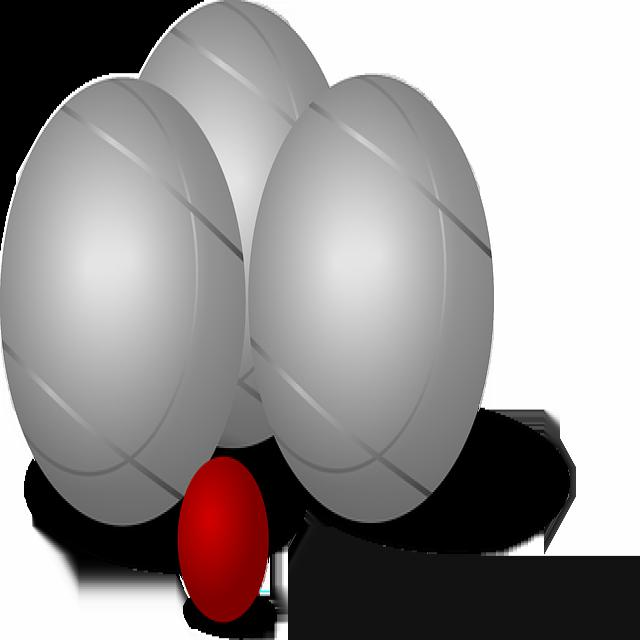hatball: (175, 451, 278, 625)
petanque: (246, 65, 502, 537), (0, 69, 253, 538), (135, 0, 340, 452)
